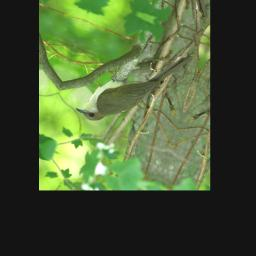Cuckoo: (73, 21, 195, 148)
